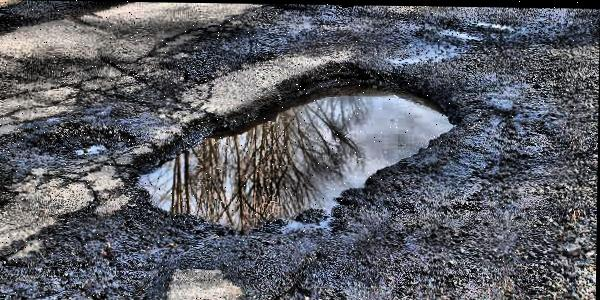pothole: (125, 54, 464, 237), (18, 117, 136, 159)
